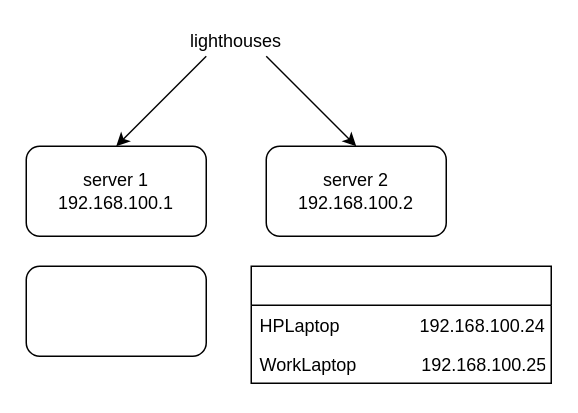
Image size: 578x413. Some labels were removed from this diagram. The shapes that lost their labels are listed below. From the top down, each one's box as (x1, y1, x2, y2) in pixels, then its label:
(25, 265, 206, 356): server 3 192.168.100.3
(250, 265, 551, 383): Clients (starting at 24)
